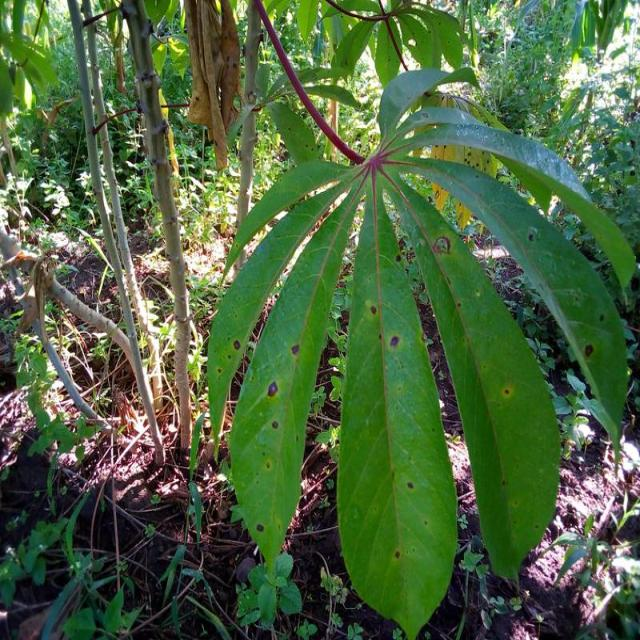cassava leaf: (206, 63, 634, 636), (380, 161, 562, 584), (336, 168, 458, 638), (226, 169, 359, 578)
